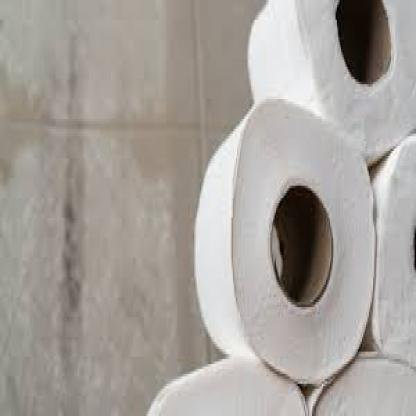tissue: (195, 102, 367, 370)
